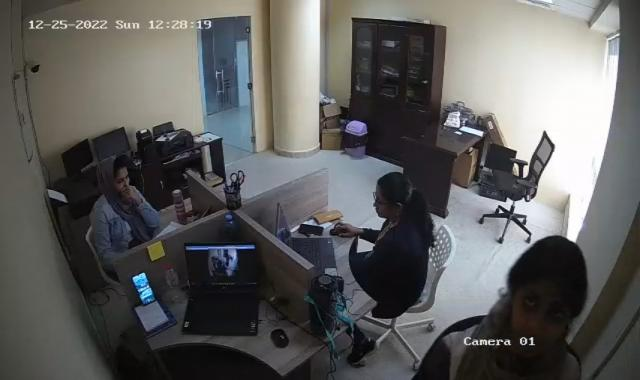no_hairnet: (507, 237, 588, 347), (372, 173, 414, 221), (101, 155, 131, 189)
